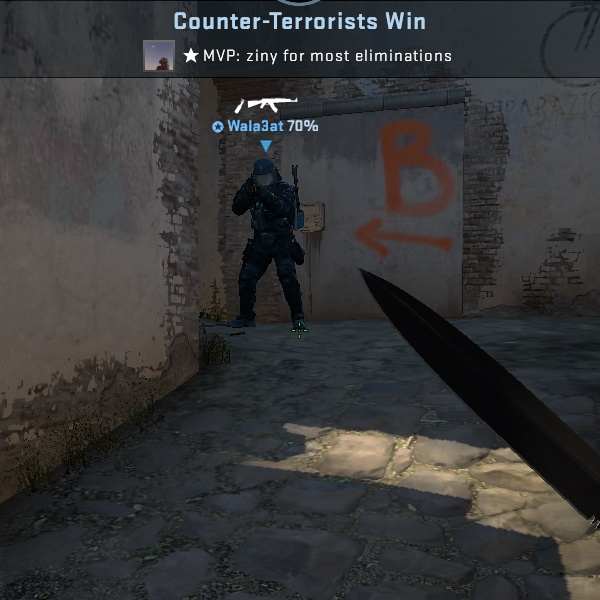ct_body: (222, 146, 320, 332)
ct_head: (247, 151, 288, 191)
